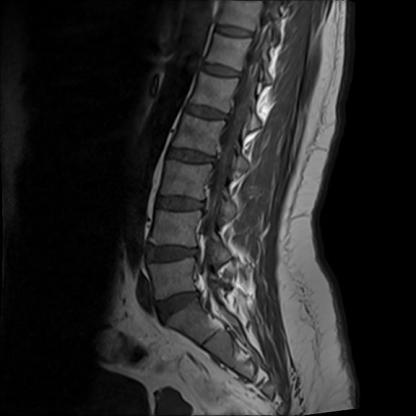Disc Bulgerotation: (151, 287, 209, 325), (143, 237, 206, 267)
